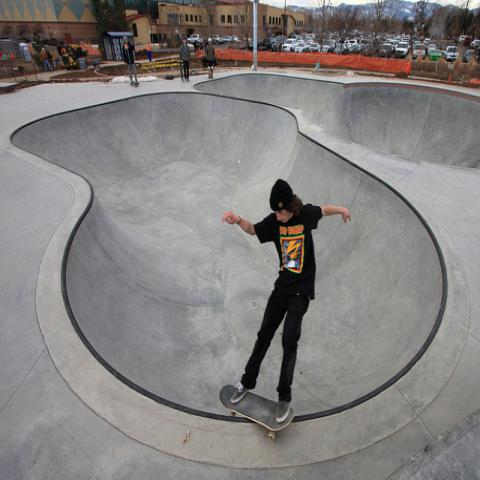car: (211, 22, 479, 62), (280, 37, 298, 52), (444, 46, 461, 61), (395, 41, 410, 57), (412, 44, 426, 60), (378, 44, 392, 58), (463, 50, 475, 63), (295, 42, 310, 52), (187, 35, 203, 44), (430, 49, 442, 61), (427, 44, 439, 55), (333, 45, 347, 54), (318, 46, 334, 53), (309, 43, 320, 52)
truck: (442, 42, 460, 63), (272, 36, 286, 52), (259, 38, 275, 51), (359, 39, 368, 53), (248, 40, 253, 50)
